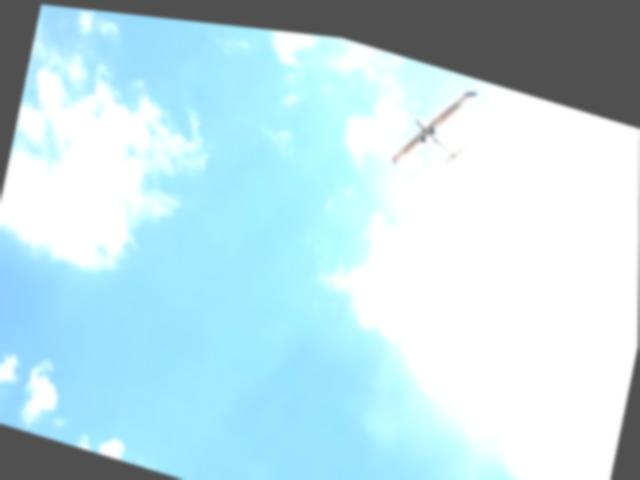uav: (387, 55, 483, 181)
